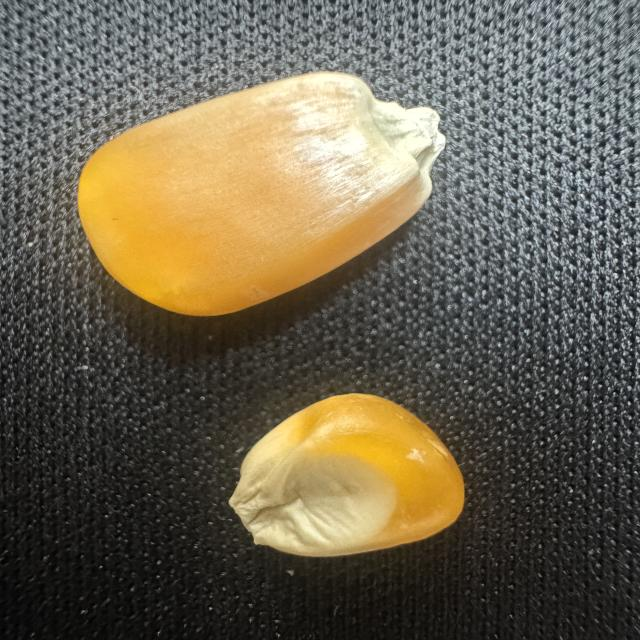Bad-Seed: (208, 382, 472, 558)
Good-Seed: (72, 62, 445, 322)
